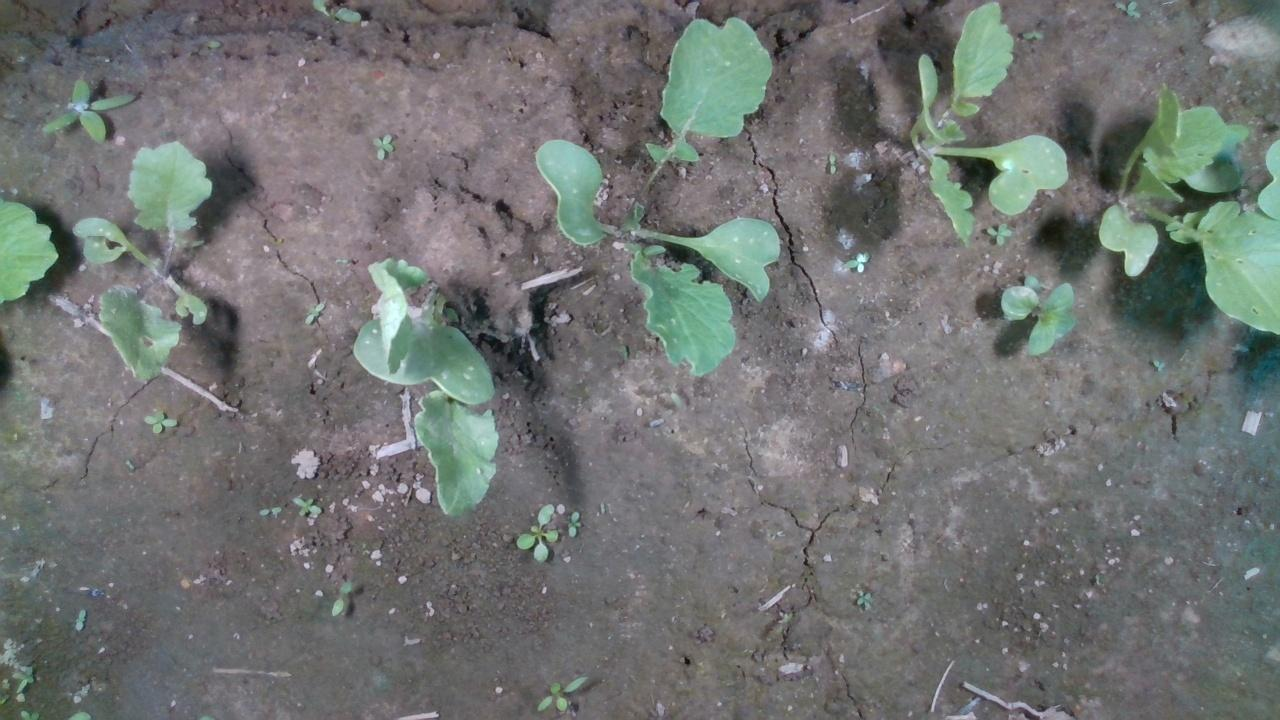weed: (40, 74, 138, 146), (513, 500, 557, 563), (535, 674, 587, 713), (139, 408, 178, 433), (329, 578, 350, 616), (840, 250, 870, 274), (292, 493, 321, 517), (983, 222, 1012, 244), (372, 132, 392, 159), (303, 300, 324, 323), (564, 509, 581, 537), (854, 587, 871, 610), (257, 503, 283, 517), (1020, 26, 1046, 40), (73, 607, 86, 631), (827, 152, 836, 174)
